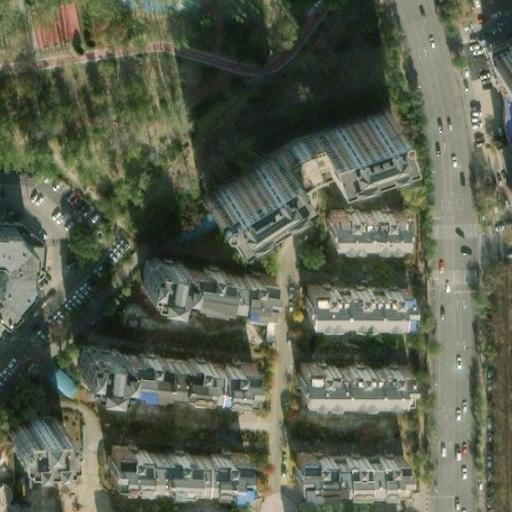building: (192, 142, 284, 217), (121, 344, 250, 383), (107, 444, 244, 478), (303, 103, 389, 156), (180, 256, 266, 302), (294, 356, 402, 391), (300, 279, 401, 313), (291, 448, 398, 480), (323, 206, 393, 236), (74, 342, 123, 384), (0, 222, 25, 302), (143, 258, 184, 300), (4, 415, 55, 447), (269, 127, 310, 165), (44, 364, 82, 400), (480, 37, 512, 72), (497, 174, 512, 206), (0, 483, 15, 511)
